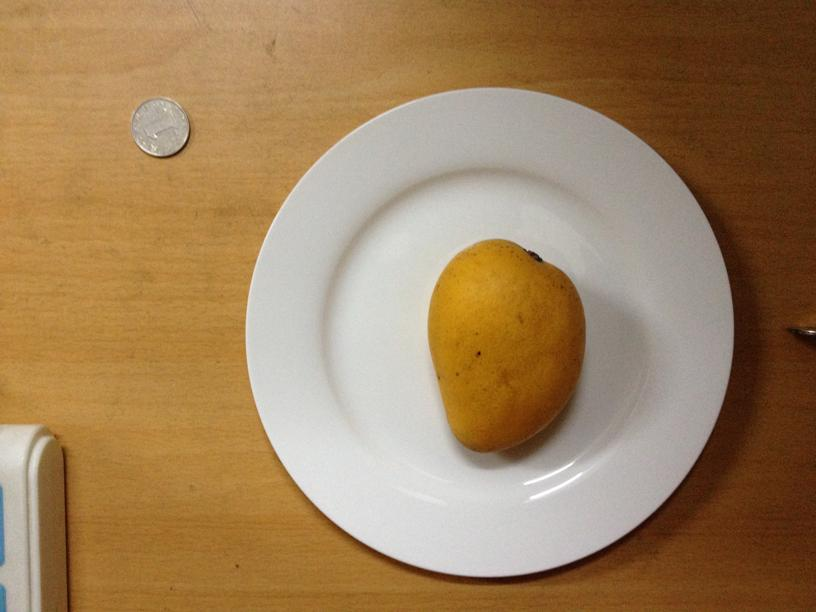coin: (129, 97, 192, 159)
mango: (429, 237, 585, 456)
